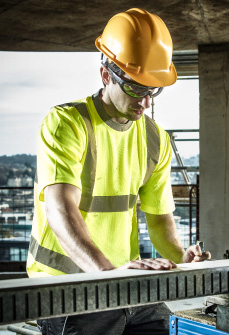Hard Hat: (92, 6, 178, 87)
High Viz: (41, 101, 156, 266)
